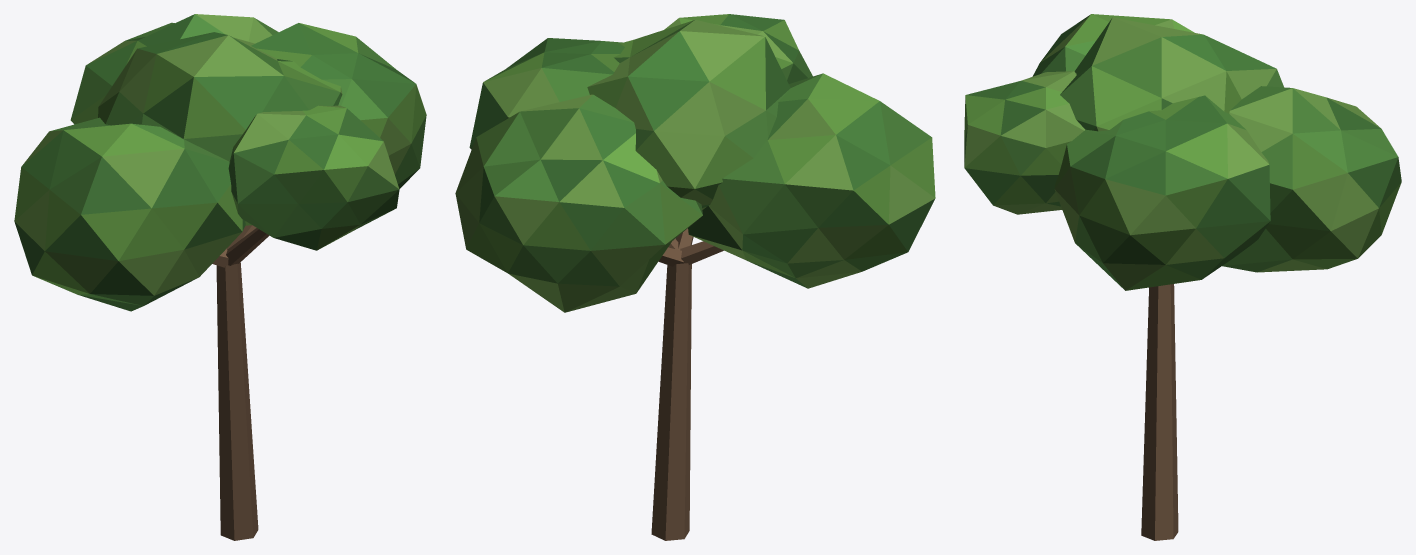
File: tree_broadleaf.glb
The picture shows the model from 3 angles, left to right: view 1: azimuth 30°, elevation 25°; view 2: azimuth 150°, elevation 25°; view 3: azimuth 270°, elevation 25°; orthographic projection. The views are drawn at different scales.
Visible parts, largest first — view 1: tree_broadleaf; view 2: tree_broadleaf; view 3: tree_broadleaf.
Part boxes in pixels (x1=…): tree_broadleaf: x1=14, y1=14, x2=426, y2=540; tree_broadleaf: x1=455, y1=14, x2=935, y2=540; tree_broadleaf: x1=964, y1=14, x2=1401, y2=540.
Size of the model in its own units: 5.2 by 6.21 by 5.
